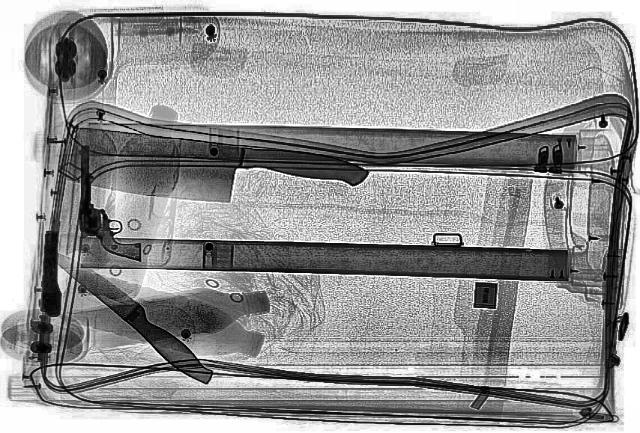Gun: (71, 145, 145, 263), (37, 232, 63, 316)
Knife: (56, 124, 372, 218), (35, 242, 227, 390)
